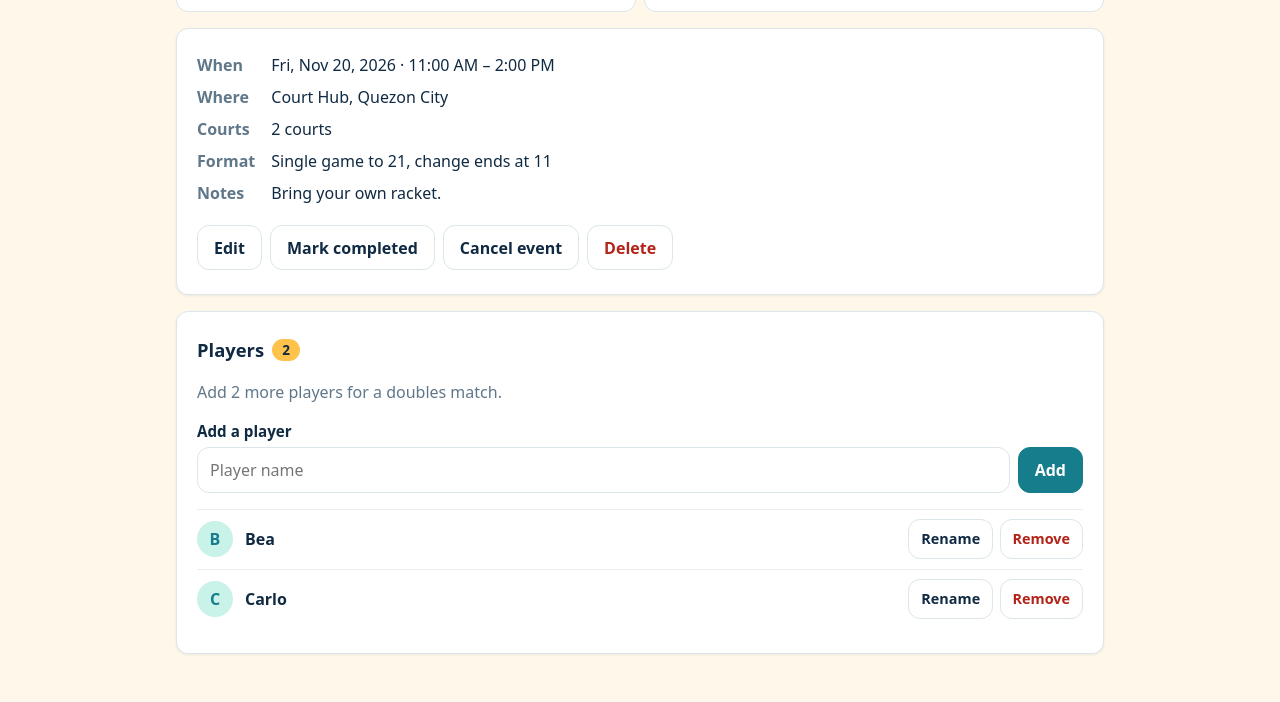
Test: Players on the event page › renames a player
(page scrolled)
Click the button with aria-label "Rename Bea" at (951, 539), box top-left (908, 519), bottom-right (993, 559)
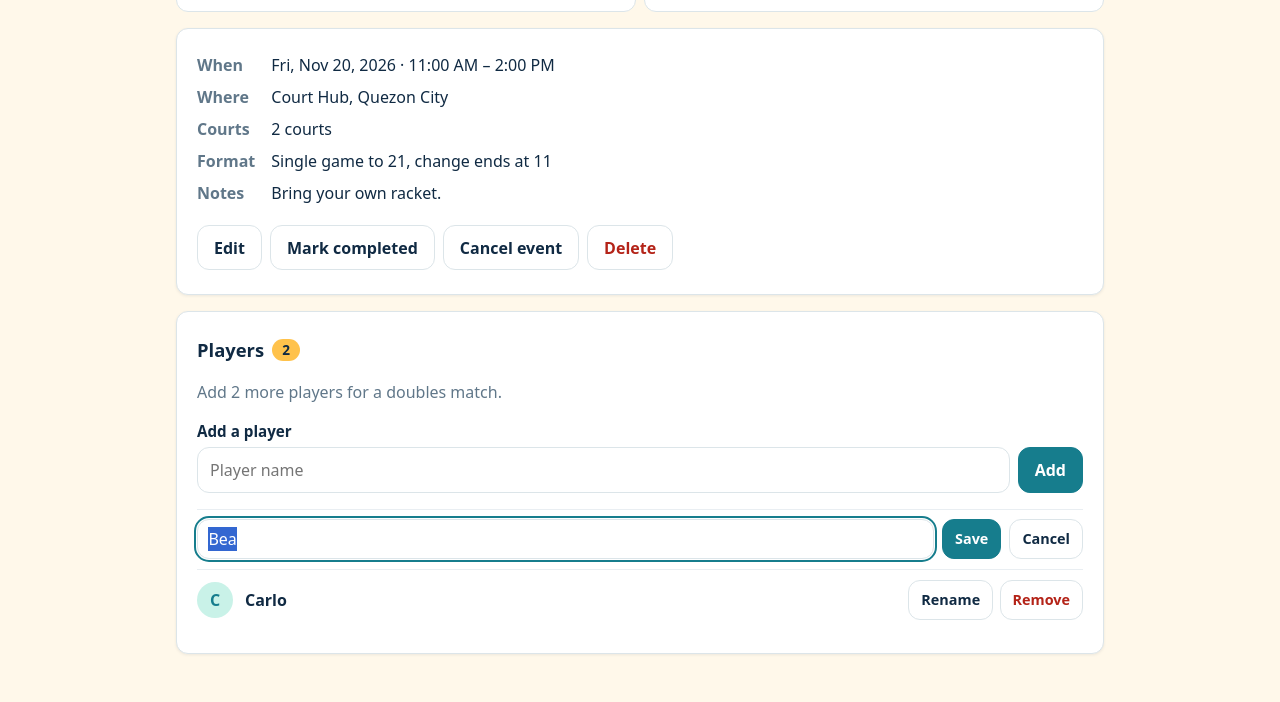
Check: the field named "New name for Bea" holds "Bea"
Replace the text in the field named "New name for Bea" with "Bea Santos" at (566, 539), box top-left (197, 519), bottom-right (934, 560)
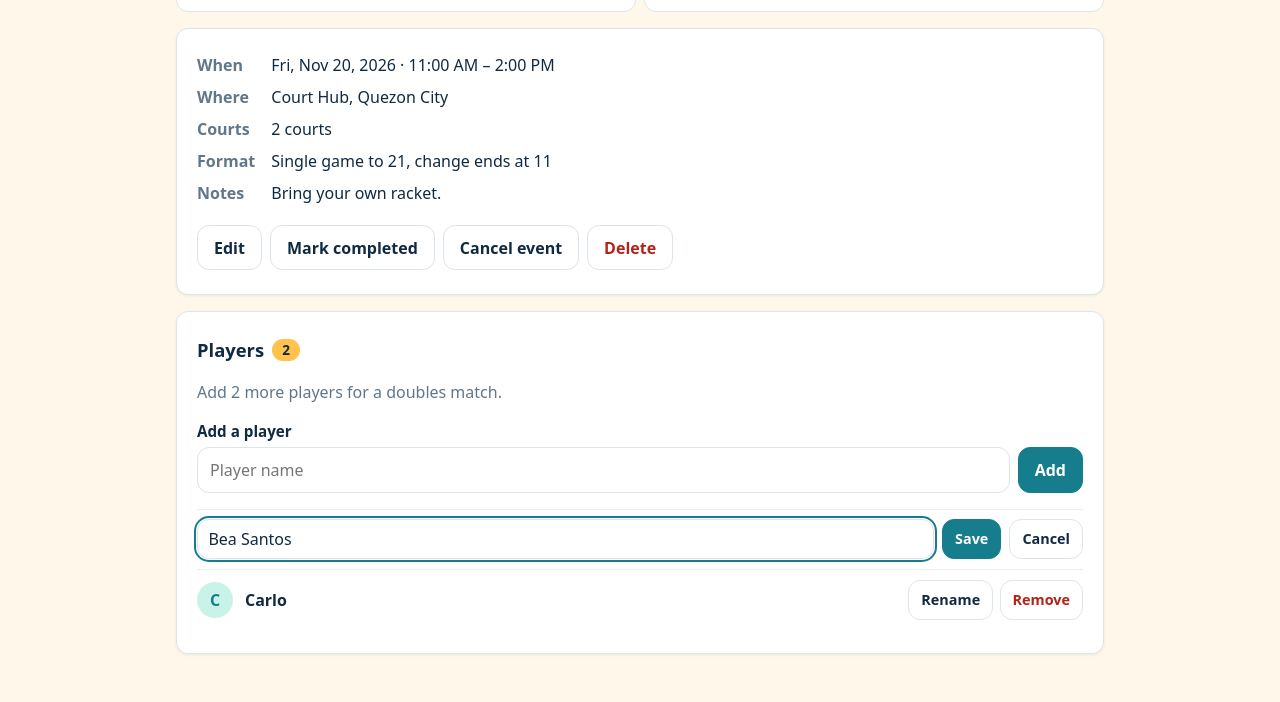
Click the button "Save" at (972, 539), box top-left (942, 519), bottom-right (1001, 560)
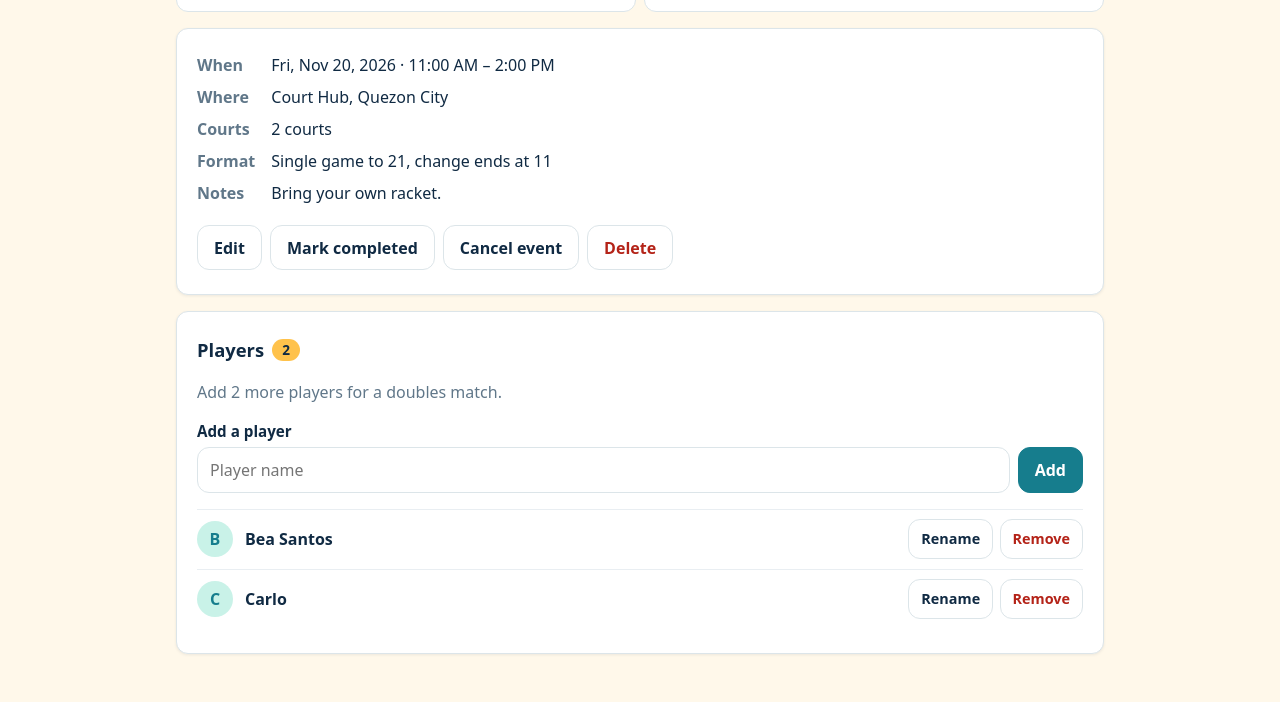
Check: the text "Bea Santos" is shown, box top-left (245, 528), bottom-right (333, 550)
